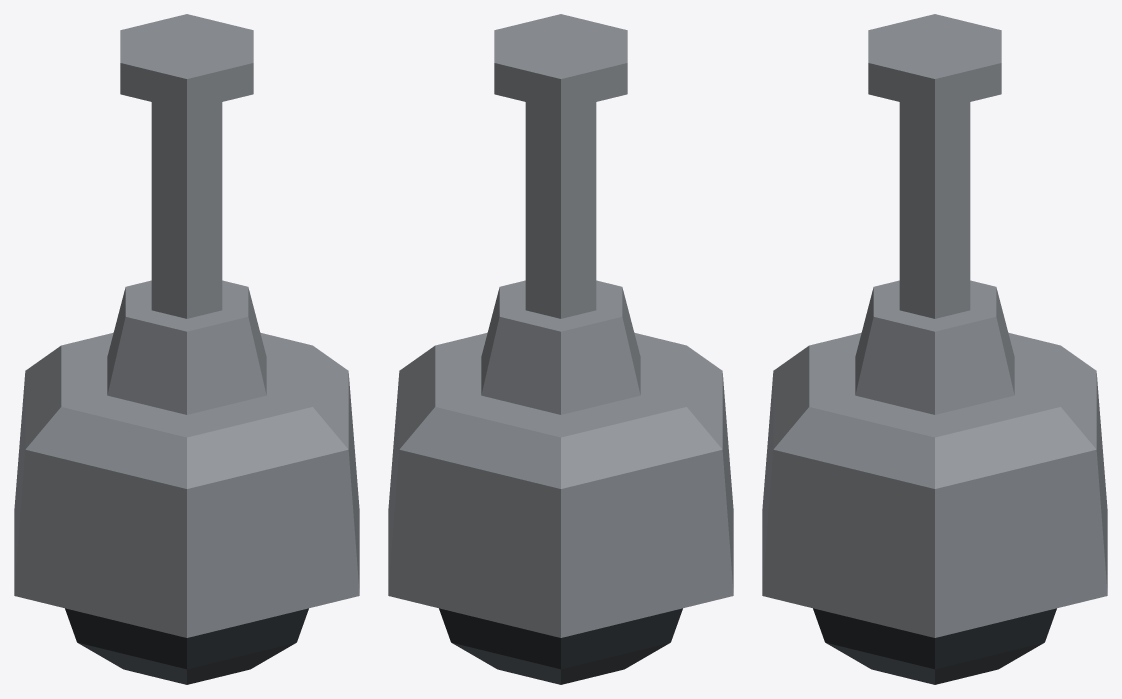
File: SecurityCam.obj
3 renders of one model, left to right at view 1: azimuth 30°, elevation 25°; view 2: azimuth 150°, elevation 25°; view 3: azimuth 270°, elevation 25°, orthographic.
Parts seen in each view (by area): view 1: SecurityCam; view 2: SecurityCam; view 3: SecurityCam.
Boxes of the visible parts, box(x1,y1,x2,y2) form: SecurityCam: box(14, 14, 359, 684); SecurityCam: box(388, 14, 733, 684); SecurityCam: box(762, 14, 1107, 684).
Bounding box in the file's own units: 0.2909 × 0.5 × 0.252.
Materials: 1 (1 with a texture image).
